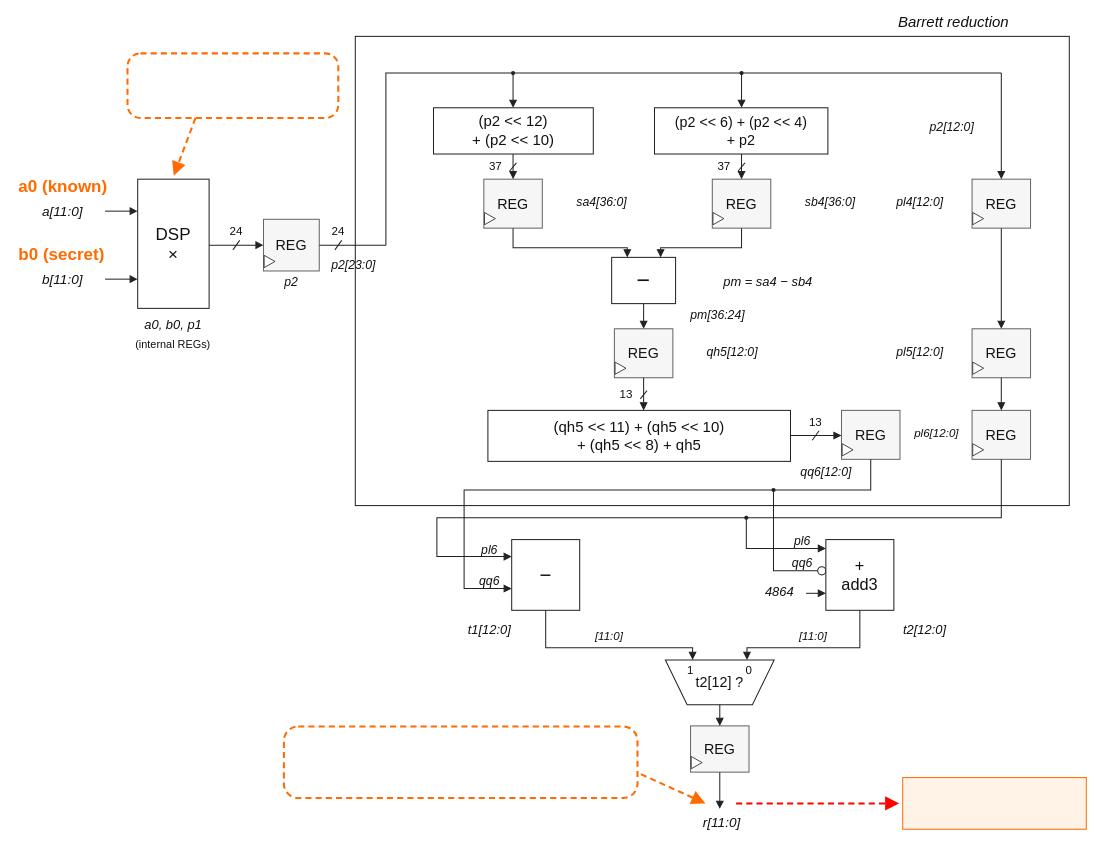
Image size: 1098x843. Some labels were removed from this diagram. The centre of each missing label's shape, as x and y in pixels:
Barrett output: (a0 × b0) mod 3329 CPA model: HW((a0 × g0) mod 3329): (x=460, y=762)
Hardware: a0 × b0 CPA guess: a0 × g0: (x=232, y=85)
p00 in parent PWM (next cycle): (x=994, y=803)
